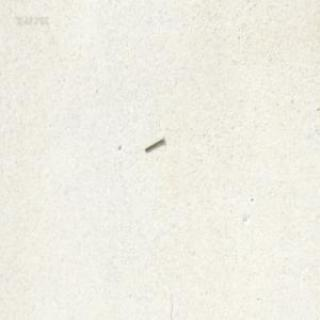Bolttrack_idkeyframe: (142, 134, 164, 152)
